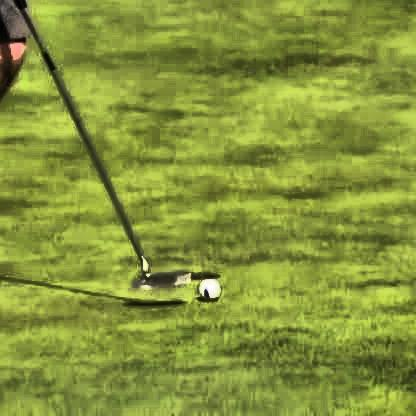golfball: (196, 277, 218, 299)
